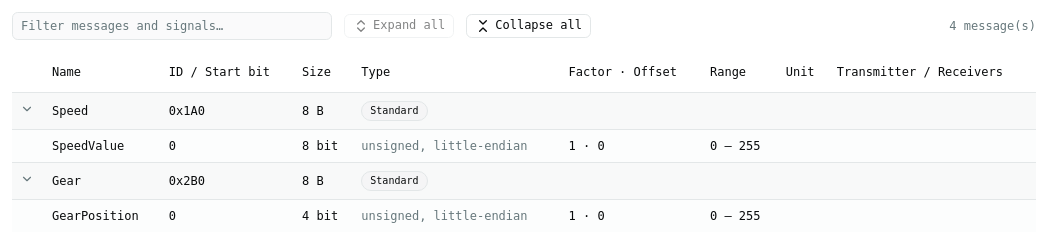
Test case: DbcTable expand and collapse all › works from a partly collapsed table
// Fold one message by its own row expander, leaving the other open.
Step 1. Click the button named "Collapse row" in the row of "0x1A0" → [27, 108], box [20,102,34,116]
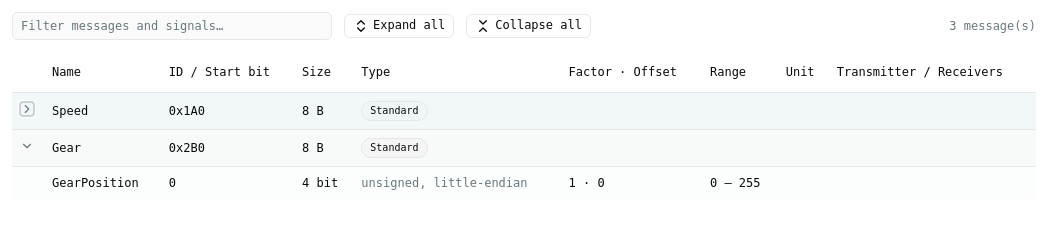
Expected: the text "GearPosition" is shown, [44,166,161,198]
Expected: the text "SpeedValue" is gone
Expected: the button "Expand all" is enabled
Step 2. Click the button "Expand all" → [399, 26], box [344,14,454,38]
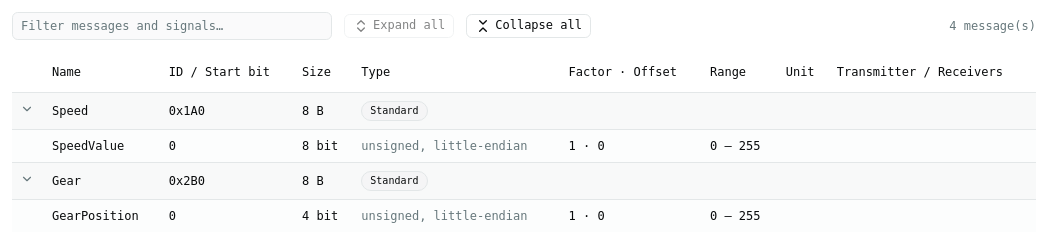
Expected: the text "GearPosition" is shown, [44,199,161,232]
Expected: the text "SpeedValue" is shown, [44,129,161,162]
